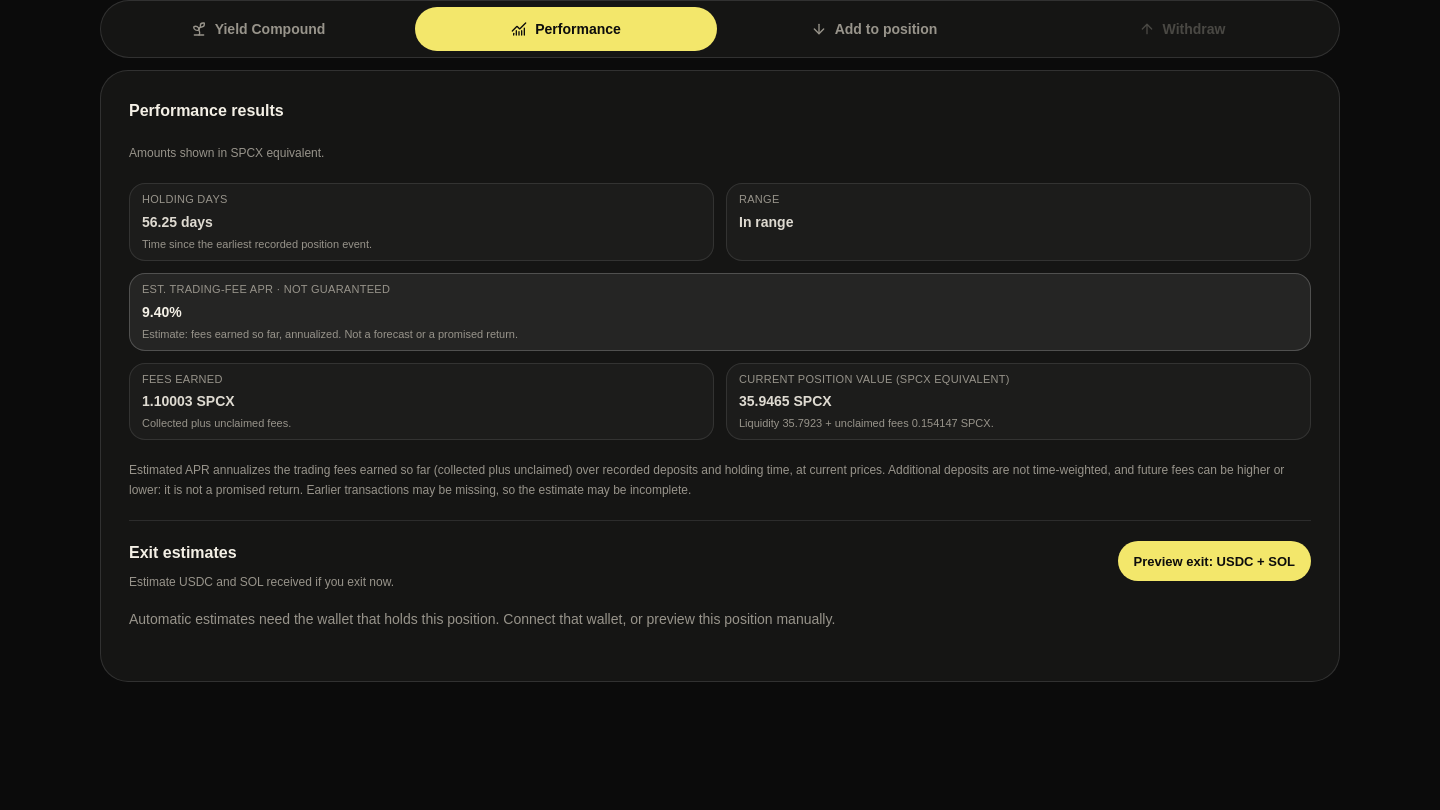
Scenario: Performance deep link /app?view=performance&mint=X: the exit estimate never waits forever › no wallet connected: explains it and offers a manual preview instead of spinning
(page scrolled)
Expected: the element named "Exit estimates" shows "Connect that wallet, or preview this position manually", [129,611,835,627]
Click the button "Preview exit: USDC + SOL" at (1214, 561), box [1118,541,1311,581]
Wait 50 ms
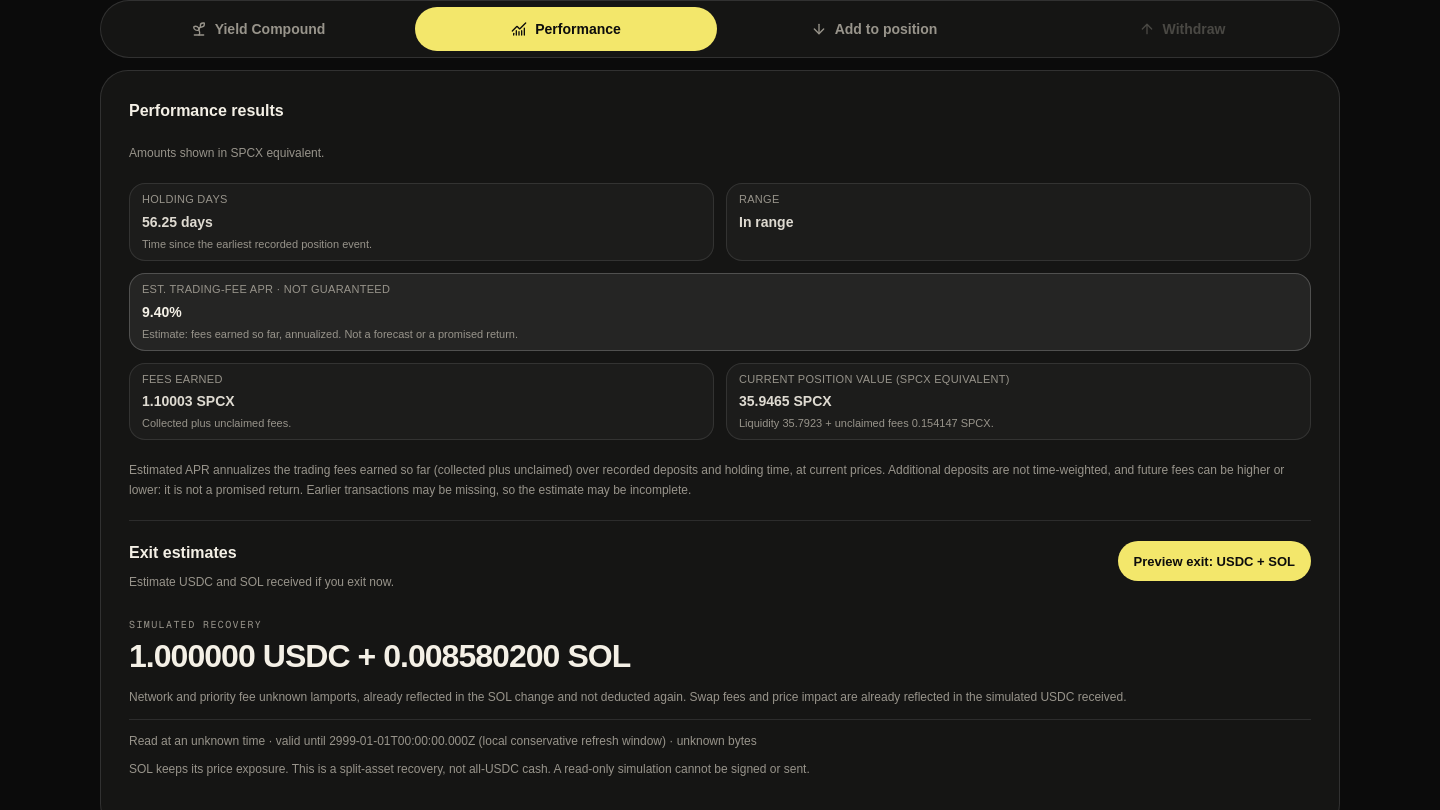
Now the element named "Exit estimates" shows "1.000000 USDC + 0.008580200 SOL", box [129,520,1311,779]
